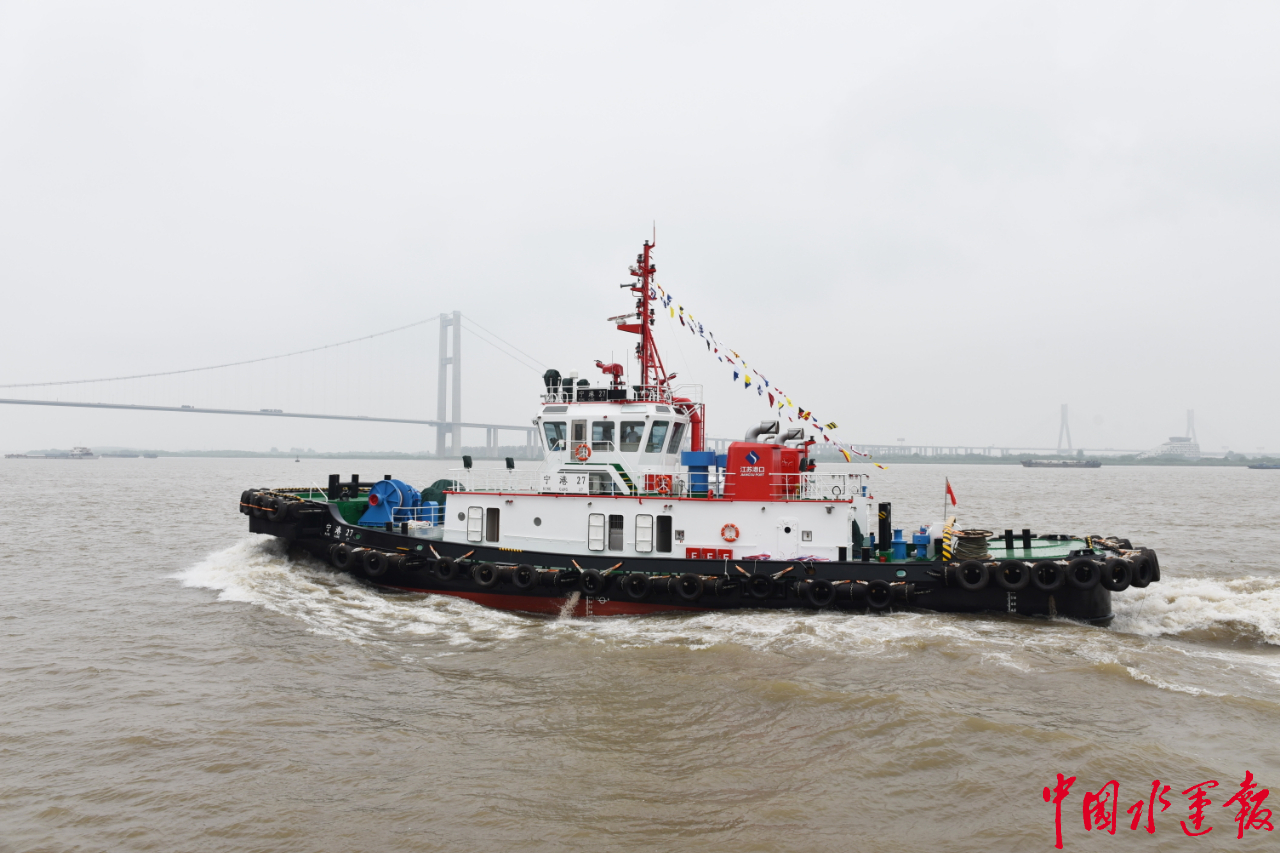otherboat: (234, 211, 1170, 631)
